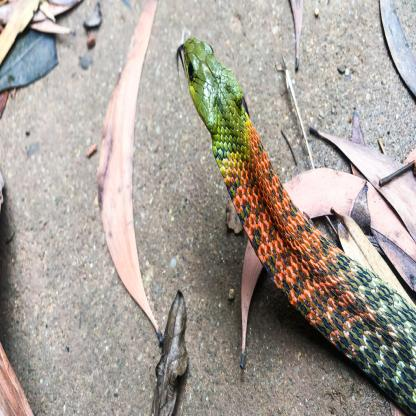Snake: (174, 33, 416, 416)
